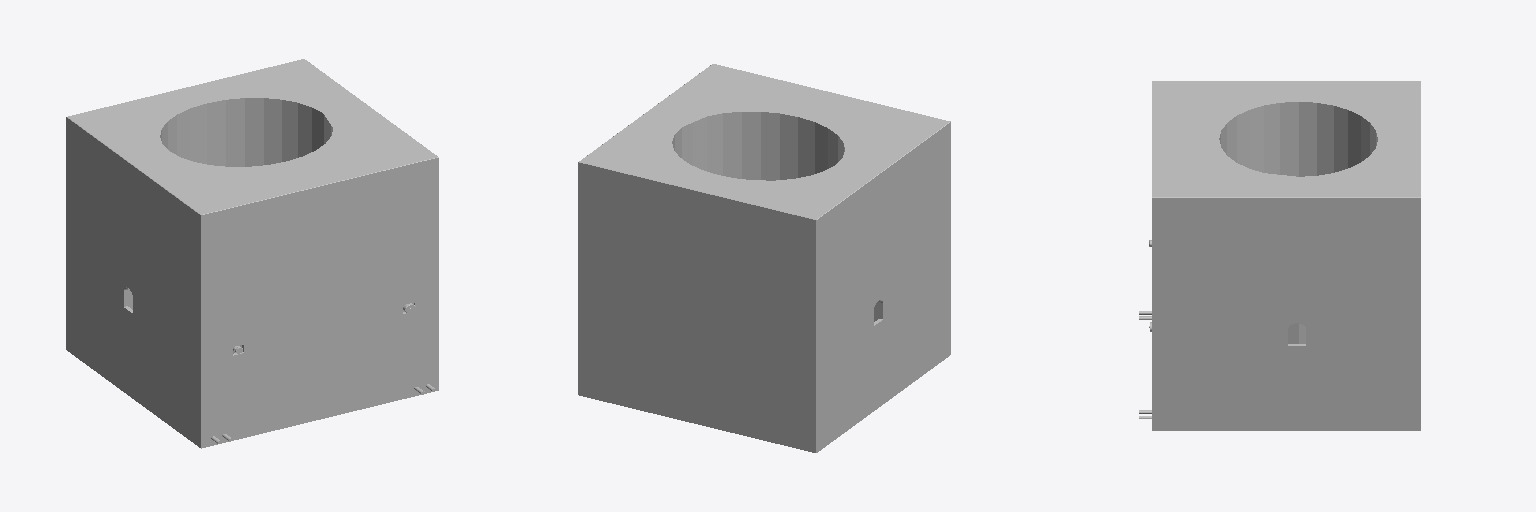
The model's file is Threeaxisstabilizedsatellite.obj.
3 views of the same model, side by side, from view 1: azimuth 30°, elevation 25°; view 2: azimuth 150°, elevation 25°; view 3: azimuth 270°, elevation 25° (orthographic).
Visible parts, largest first — view 1: Rectangle71, Rectangle096; view 2: Rectangle71, Rectangle096; view 3: Rectangle71, Rectangle096.
Part boxes in pixels (x1,y1,x2,y2): Rectangle71: (66,59,438,448); Rectangle096: (73,61,432,353); Rectangle71: (578,64,950,452); Rectangle096: (585,66,943,217); Rectangle71: (1152,81,1420,430); Rectangle096: (1156,83,1416,343).
Size of the model in its own units: 177 by 166 by 182.